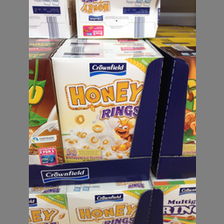cereal: (50, 47, 162, 163)
